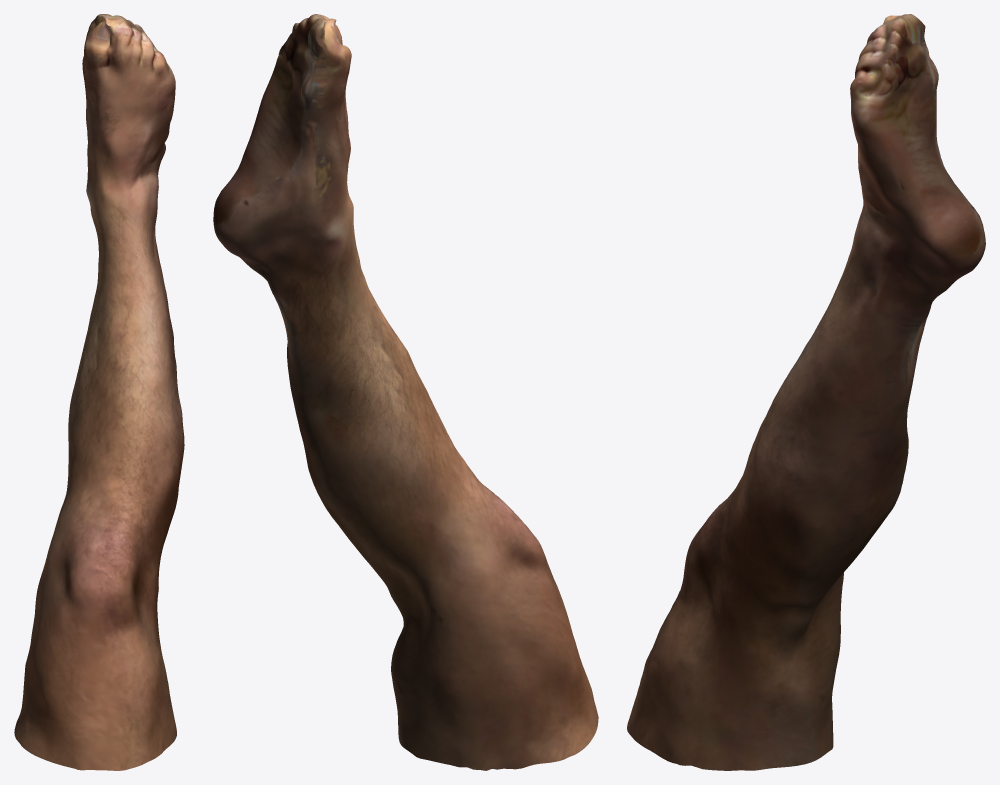
File: leg_foot.glb
3 renders of one model, left to right at view 1: azimuth 30°, elevation 25°; view 2: azimuth 150°, elevation 25°; view 3: azimuth 270°, elevation 25°, orthographic. The views are drawn at different scales.
Visible parts, largest first — view 1: _7DDB2DA5_CA8A_4E9A_8950_7CF82424E531; view 2: _7DDB2DA5_CA8A_4E9A_8950_7CF82424E531; view 3: _7DDB2DA5_CA8A_4E9A_8950_7CF82424E531.
Boxes of the visible parts, bbox=[...] form: _7DDB2DA5_CA8A_4E9A_8950_7CF82424E531: bbox=[14, 14, 184, 770]; _7DDB2DA5_CA8A_4E9A_8950_7CF82424E531: bbox=[213, 14, 598, 770]; _7DDB2DA5_CA8A_4E9A_8950_7CF82424E531: bbox=[627, 14, 985, 770].
Bounding box in the file's own units: 0.2985 × 0.8221 × 0.3495.
Materials: 1 (1 with a texture image).
